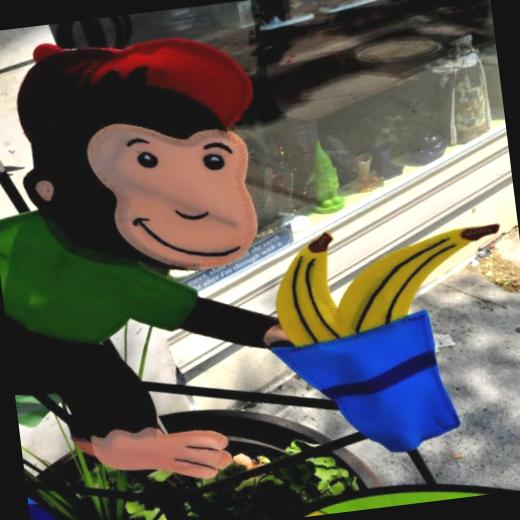Banana: (326, 225, 510, 334), (268, 229, 358, 349)
